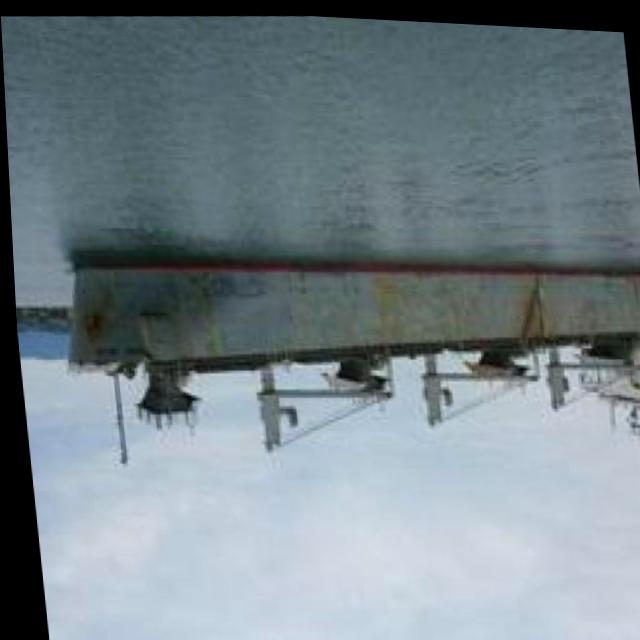ship2: (60, 256, 640, 466)
